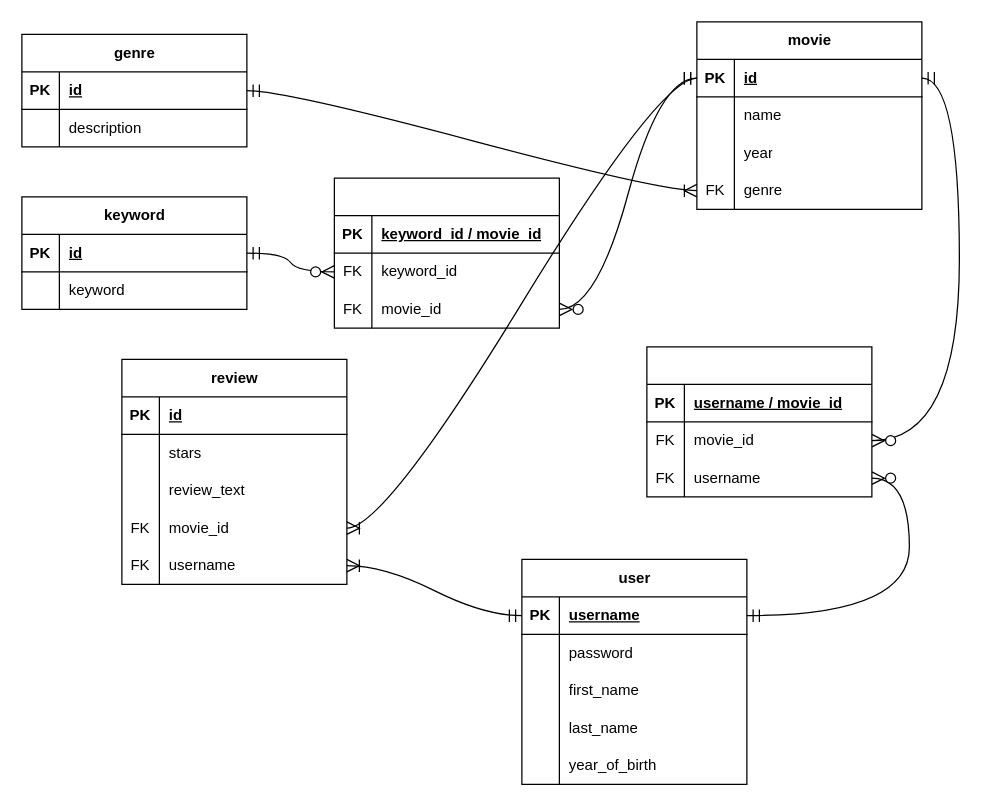
Image size: 981x806. Some labels were removed from this diagram. Here are the shapes that lost their labels. From the top down, the box of each, then its label:
(333, 177, 559, 328): keyword_movie
(646, 346, 872, 497): favourite
